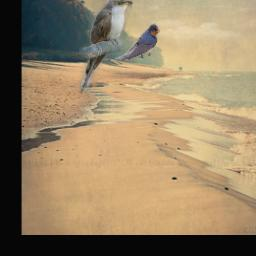Cuckoo: (79, 0, 132, 94)
Swallow: (115, 24, 160, 61)
